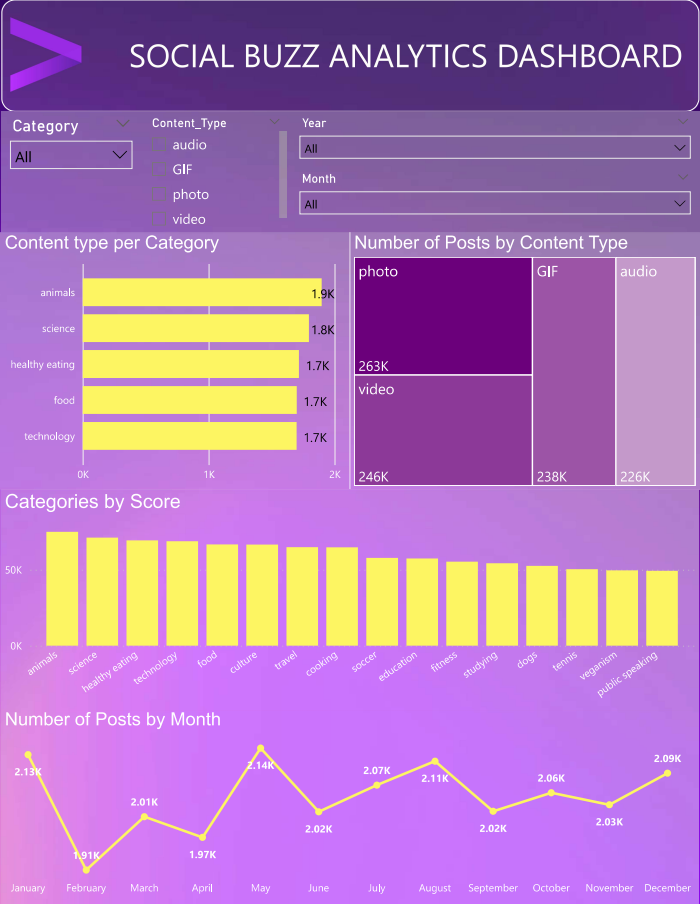

The dashboard page shown, as its layout file describes it:
{"tool":"powerbi","page":{"name":"Page 1","canvas":[816,1056],"ordinal":0},"visuals":[{"type":"image","box":[0,0,131.4,131.4],"z":0},{"type":"textbox","box":[131.4,0,683.8,131.4],"z":1000},{"type":"shape","box":[1.3,0,815.2,131.4],"z":2000},{"type":"slicer","fields":{"Values":["Sheet1.Category"]},"box":[1.3,131.4,162.3,140.4],"z":3000},{"type":"slicer","fields":{"Values":["Sheet1.Content_Type"]},"box":[163.6,131.4,175.1,140.4],"z":4000},{"type":"slicer","fields":{"Values":["Sheet1.Date.Variation.Date Hierarchy.Year"]},"box":[338.7,131.4,477.8,64.4],"z":5000},{"type":"slicer","fields":{"Values":["Sheet1.Date.Variation.Date Hierarchy.Month"]},"box":[338.7,195.7,477.8,76],"z":6000},{"type":"barChart","title":"Content type per Category","fields":{"Category":["Sheet1.Category"],"Y":["CountNonNull(Sheet1.Content_Type)"]},"box":[0,271.7,409.5,301.3],"z":7000},{"type":"treemap","title":"Number of Posts by Content Type","fields":{"Group":["Sheet1.Content_Type"],"Values":["Sum(Sheet1.Score)"]},"box":[408.2,271.7,408.2,301.3],"z":8000},{"type":"lineChart","title":"Number of Posts by Month","fields":{"Category":["Sheet1.Date.Variation.Date Hierarchy.Month"],"Y":["Count(Sheet1.Row_number)"]},"box":[0,829.3,815.2,226.7],"z":9000},{"type":"clusteredColumnChart","title":"Categories by Score","fields":{"Category":["Sheet1.Category"],"Y":["Sum(Sheet1.Score)"]},"box":[0,573.1,815.2,256.3],"z":10000}]}

Visuals, with their boxes in screenshot pixels (x1, y1, x2, y2), scaled from the page's 816x1056 canvas onto the 700x904 screenshot:
image: {"left": 0, "top": 0, "right": 113, "bottom": 112}
textbox: {"left": 113, "top": 0, "right": 699, "bottom": 112}
shape: {"left": 1, "top": 0, "right": 699, "bottom": 112}
slicer - Sheet1.Category: {"left": 1, "top": 112, "right": 140, "bottom": 233}
slicer - Sheet1.Content_Type: {"left": 140, "top": 112, "right": 291, "bottom": 233}
slicer - Sheet1.Date.Variation.Date Hierarchy.Year: {"left": 291, "top": 112, "right": 699, "bottom": 168}
slicer - Sheet1.Date.Variation.Date Hierarchy.Month: {"left": 291, "top": 168, "right": 699, "bottom": 233}
"Content type per Category" barChart: {"left": 0, "top": 233, "right": 351, "bottom": 491}
"Number of Posts by Content Type" treemap: {"left": 350, "top": 233, "right": 699, "bottom": 491}
"Number of Posts by Month" lineChart: {"left": 0, "top": 710, "right": 699, "bottom": 903}
"Categories by Score" clusteredColumnChart: {"left": 0, "top": 491, "right": 699, "bottom": 710}
